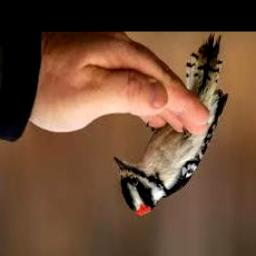Woodpecker: (114, 32, 228, 217)
